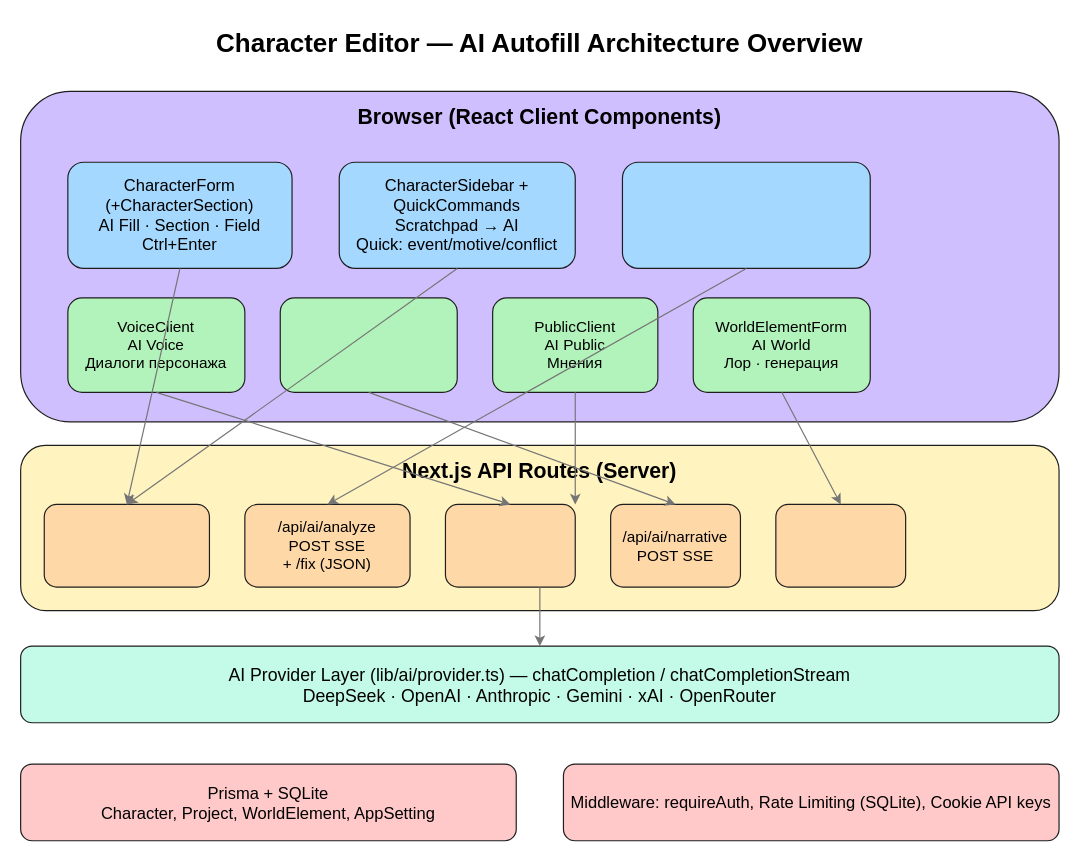
The diagram is 1080 pixels wide and 861 high, and some of its shapes have lost their labels. Each missing label, with the centre of its shape:
"/api/ai/fill POST SSE stream + JSON" goes at pixel 126 545.
"/api/ai/voice POST SSE" goes at pixel 509 545.
"/api/ai/world POST SSE" goes at pixel 840 545.
"CharacterFormHeader + AnalyzePanel AI Analyze → Fix DiffModal Accept/Reject" goes at pixel 745 214.
"NarrativeClient AI Narrative Худ. описание" goes at pixel 368 344.
